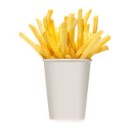frenchfries: (23, 3, 111, 60)
